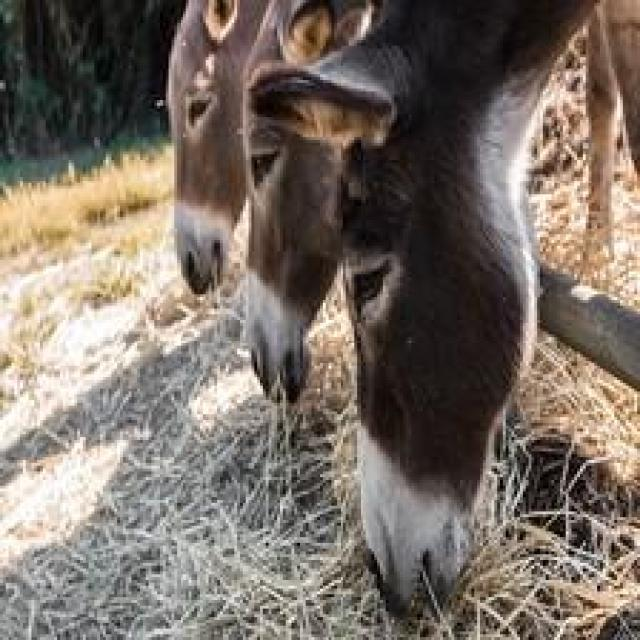Donkey: (235, 0, 636, 620), (190, 0, 459, 406), (162, 0, 271, 294)
